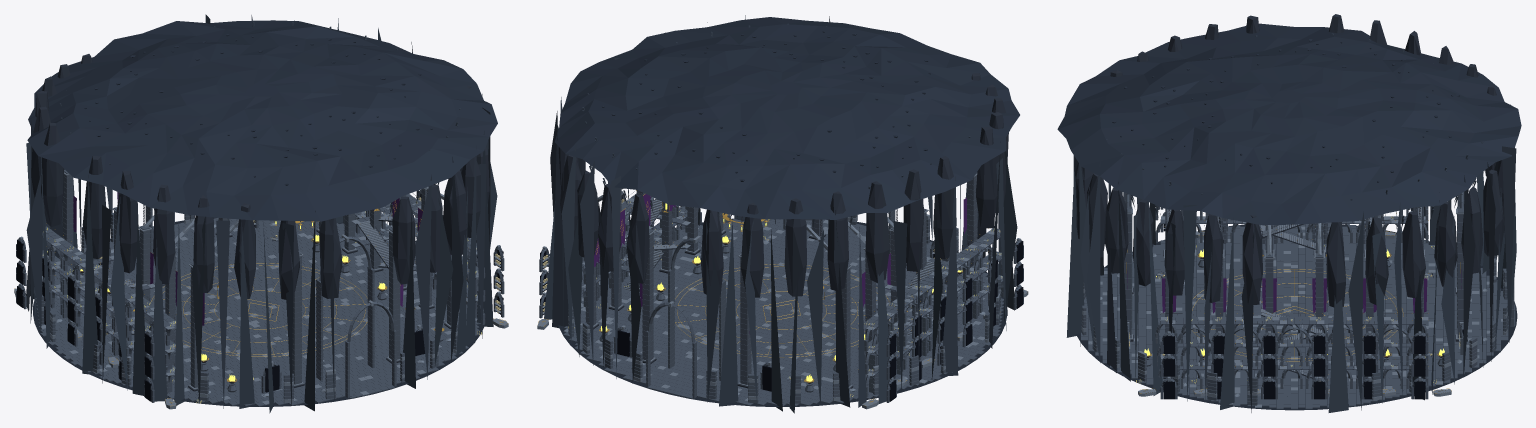
File: cellar-room-08.glb
3 views of the same model, side by side, from view 1: azimuth 30°, elevation 25°; view 2: azimuth 150°, elevation 25°; view 3: azimuth 270°, elevation 25° (orthographic). The views are drawn at different scales.
Parts seen in each view (by area): view 1: Cellar 8 ceiling, Cellar 8 rock, Cellar 8 stone_floor, Cellar 8 stone_dark, Cellar 8 stone_structure, Cellar 8 stone, Cellar 8 stone_light_structure, Cellar 8 stone_floor_light, Cellar 8 void, Cellar 8 stone_light, Cellar 8 mortar, Cellar 8 gold (+2 smaller); view 2: Cellar 8 ceiling, Cellar 8 rock, Cellar 8 stone_floor, Cellar 8 stone_dark, Cellar 8 stone_structure, Cellar 8 stone, Cellar 8 void, Cellar 8 stone_floor_light, Cellar 8 stone_light_structure, Cellar 8 stone_light, Cellar 8 mortar, Cellar 8 gold (+3 smaller); view 3: Cellar 8 ceiling, Cellar 8 rock, Cellar 8 stone_floor, Cellar 8 stone_dark, Cellar 8 stone_structure, Cellar 8 void, Cellar 8 stone, Cellar 8 mortar, Cellar 8 stone_light_structure, Cellar 8 stone_light, Cellar 8 stone_floor_light, Cellar 8 purple (+2 smaller).
Boxes of the visible parts, left/top/right/bottom form: Cellar 8 ceiling: left=27, top=20, right=497, bottom=221; Cellar 8 rock: left=26, top=14, right=497, bottom=413; Cellar 8 stone_floor: left=35, top=218, right=481, bottom=406; Cellar 8 stone_dark: left=31, top=54, right=489, bottom=381; Cellar 8 stone_structure: left=16, top=170, right=504, bottom=402; Cellar 8 stone: left=42, top=194, right=478, bottom=392; Cellar 8 stone_light_structure: left=19, top=172, right=500, bottom=402; Cellar 8 stone_floor_light: left=36, top=227, right=477, bottom=404; Cellar 8 void: left=17, top=194, right=503, bottom=401; Cellar 8 stone_light: left=14, top=187, right=508, bottom=409; Cellar 8 mortar: left=33, top=217, right=485, bottom=406; Cellar 8 gold: left=150, top=200, right=421, bottom=356; Cellar 8 ceiling: left=555, top=17, right=1019, bottom=219; Cellar 8 rock: left=544, top=15, right=1017, bottom=413; Cellar 8 stone_floor: left=563, top=219, right=1003, bottom=406; Cellar 8 stone_dark: left=555, top=58, right=1008, bottom=381; Cellar 8 stone_structure: left=539, top=172, right=1023, bottom=403; Cellar 8 stone: left=581, top=193, right=1002, bottom=392; Cellar 8 void: left=540, top=195, right=1023, bottom=401; Cellar 8 stone_floor_light: left=563, top=220, right=988, bottom=401; Cellar 8 stone_light_structure: left=542, top=173, right=1020, bottom=400; Cellar 8 stone_light: left=537, top=188, right=1028, bottom=409; Cellar 8 mortar: left=558, top=218, right=1007, bottom=406; Cellar 8 gold: left=595, top=201, right=890, bottom=357; Cellar 8 ceiling: left=1057, top=23, right=1521, bottom=225; Cellar 8 rock: left=1066, top=25, right=1516, bottom=412; Cellar 8 stone_floor: left=1081, top=224, right=1515, bottom=409; Cellar 8 stone_dark: left=1074, top=14, right=1514, bottom=369; Cellar 8 stone_structure: left=1081, top=192, right=1514, bottom=405; Cellar 8 void: left=1163, top=213, right=1463, bottom=399; Cellar 8 stone: left=1147, top=216, right=1442, bottom=382; Cellar 8 mortar: left=1076, top=224, right=1517, bottom=410; Cellar 8 stone_light_structure: left=1081, top=208, right=1507, bottom=400; Cellar 8 stone_light: left=1100, top=207, right=1487, bottom=396; Cellar 8 stone_floor_light: left=1088, top=226, right=1508, bottom=407; Cellar 8 purple: left=1127, top=269, right=1461, bottom=313.
Size of the model in its own units: 166 by 88.17 by 167.
